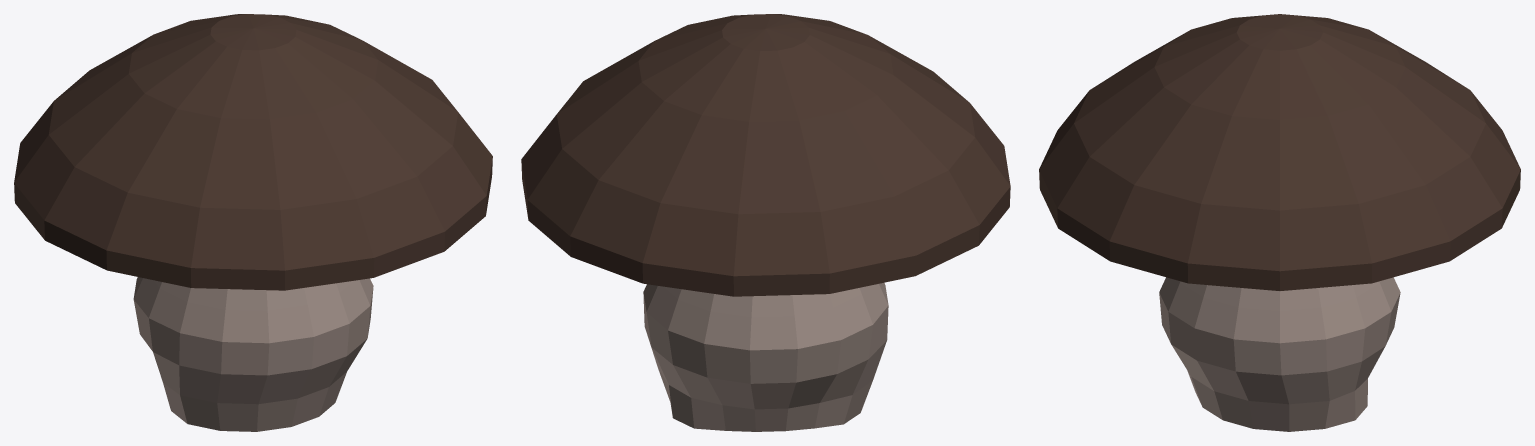
Rendered from SK_Mushroom_06.fbx.
3 renders of one model, left to right at view 1: azimuth 30°, elevation 25°; view 2: azimuth 150°, elevation 25°; view 3: azimuth 270°, elevation 25°, orthographic. The views are drawn at different scales.
Parts seen in each view (by area): view 1: Mushroom 04; view 2: Mushroom 04; view 3: Mushroom 04.
Boxes of the visible parts, box(x1,y1,x2,y2) form: Mushroom 04: box(14, 14, 492, 431); Mushroom 04: box(521, 14, 1010, 431); Mushroom 04: box(1039, 14, 1520, 431).
Bounding box in the file's own units: 269 × 225 × 269.
